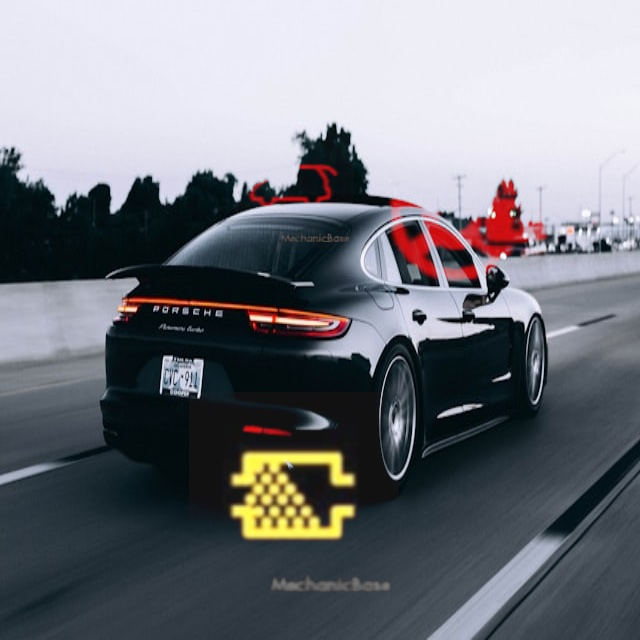symbol: (189, 392, 399, 602), (365, 111, 575, 321), (234, 128, 354, 248)
